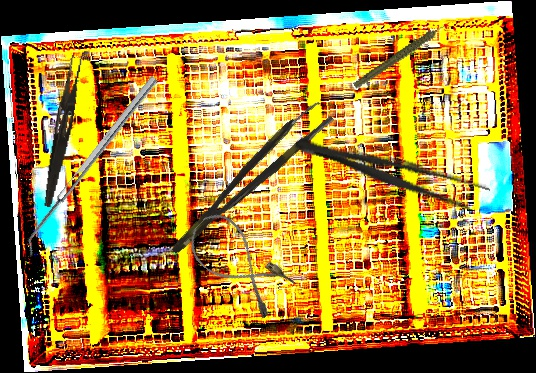Cannula: (179, 205, 299, 322)
Dressing Forceps: (291, 128, 492, 216), (42, 53, 83, 209)
Handpiece: (344, 21, 461, 91)
Spatula Surgical: (18, 75, 165, 258)
Tissue Forceps: (159, 98, 335, 257)
